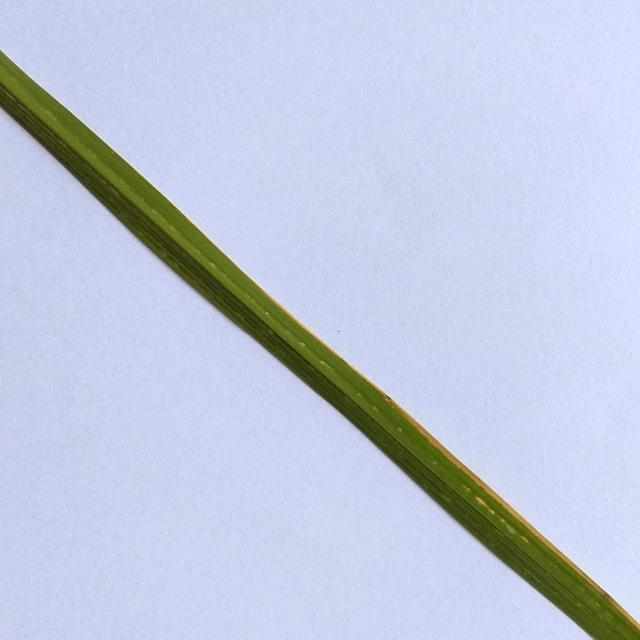Blast: (426, 438, 449, 458), (454, 457, 474, 480), (408, 415, 426, 435)
